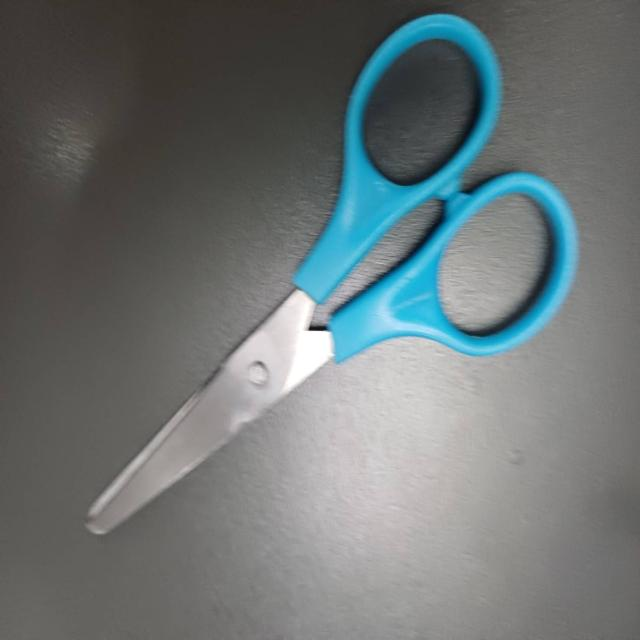scissors: (81, 6, 579, 546)
